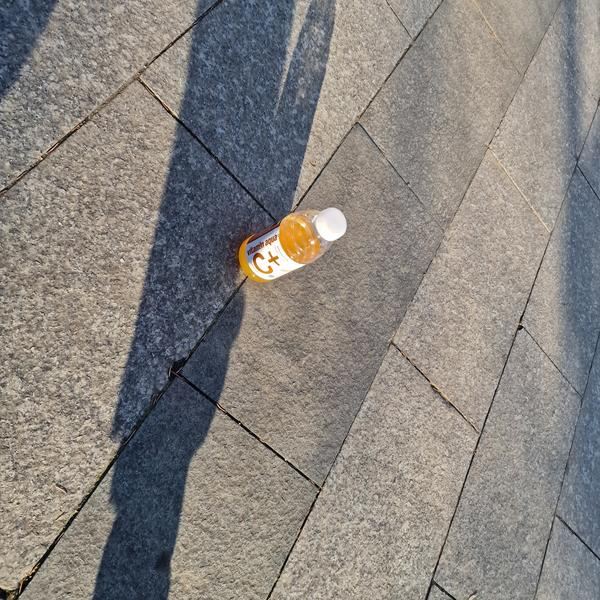plastic_bottle: (229, 191, 357, 294)
